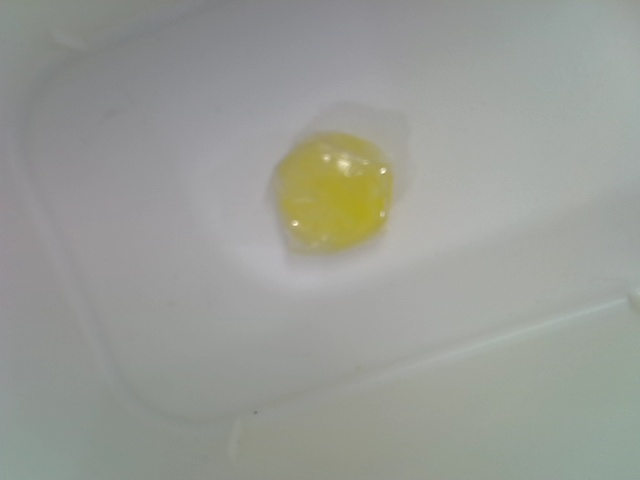씨앗: (270, 132, 395, 250)
